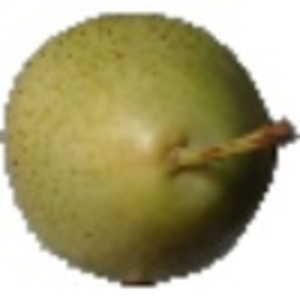pera: (1, 10, 300, 289)
